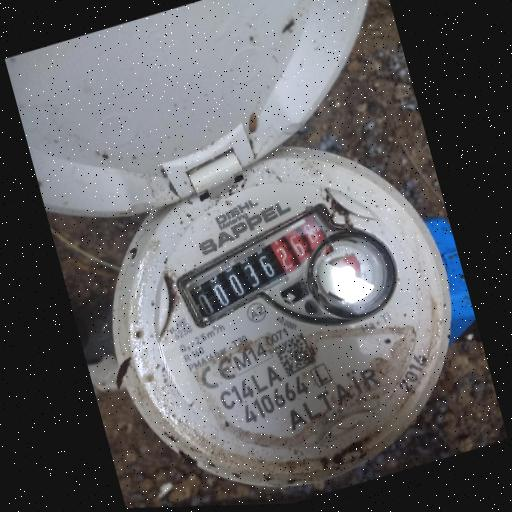0: (218, 261, 253, 304), (188, 279, 220, 320), (204, 271, 236, 312)
2: (267, 233, 300, 277)
3: (234, 251, 270, 296)
6: (251, 241, 287, 286), (280, 225, 314, 268)
8: (298, 216, 328, 254)
border_water_meter_number: (164, 196, 357, 334)
